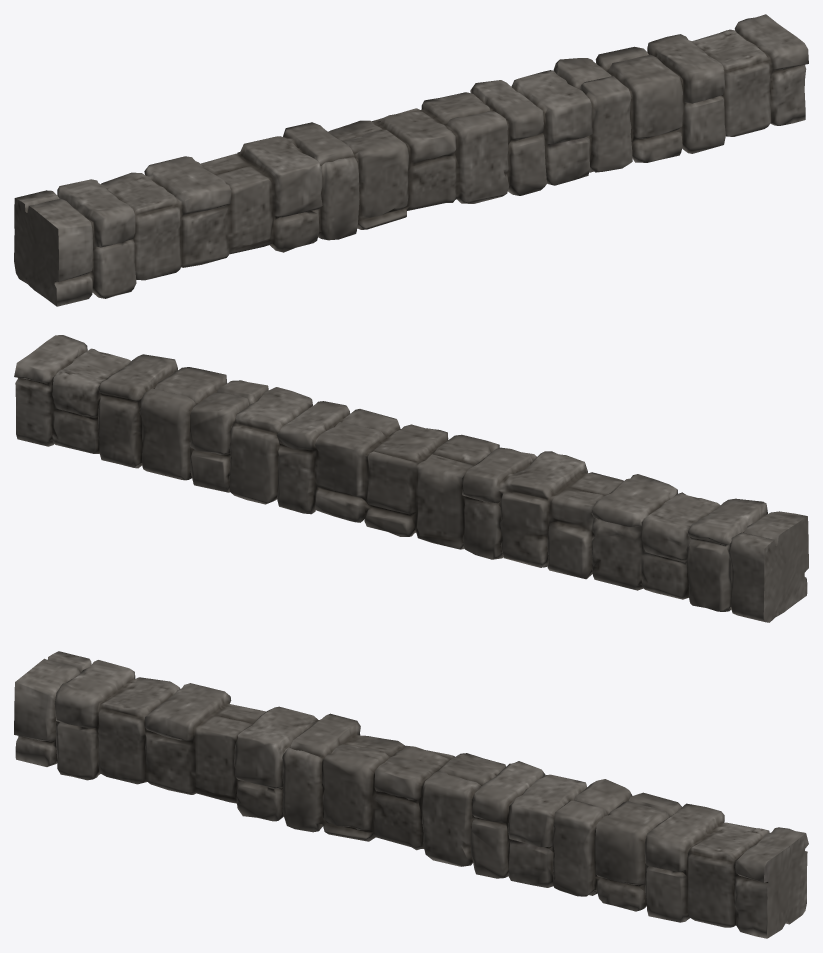
Rendered from SM_Edge_Stones.glb.
3 renders of one model, top to bottom at view 1: azimuth 30°, elevation 25°; view 2: azimuth 150°, elevation 25°; view 3: azimuth 330°, elevation 25°, orthographic.
Parts seen in each view (by area): view 1: SM_Edge_Stones; view 2: SM_Edge_Stones; view 3: SM_Edge_Stones.
Part boxes in pixels (left/top/right/bottom): SM_Edge_Stones: left=14, top=14, right=808, bottom=306; SM_Edge_Stones: left=14, top=335, right=808, bottom=622; SM_Edge_Stones: left=14, top=651, right=808, bottom=938.
Size of the model in its own units: 5.99 by 0.6562 by 0.659.
Materials: 1 (1 with a texture image).
